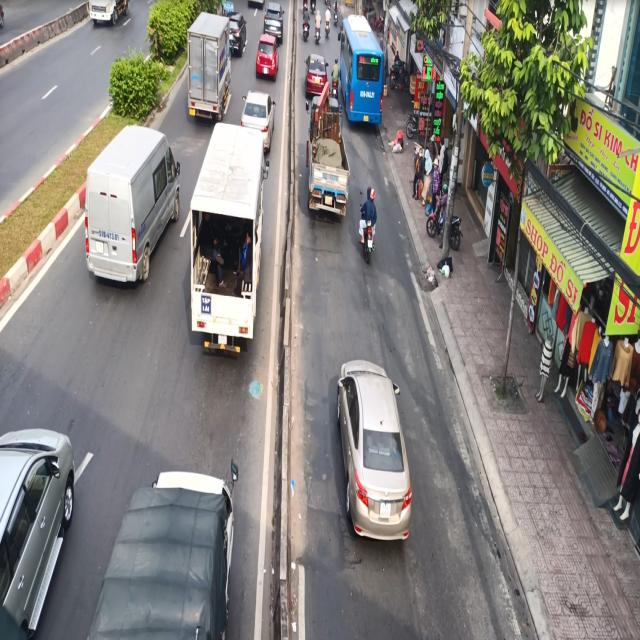car: (0, 413, 91, 640), (80, 123, 180, 306), (335, 347, 417, 569), (242, 77, 272, 137)
motor: (359, 183, 383, 257)
truck: (302, 94, 348, 222)
